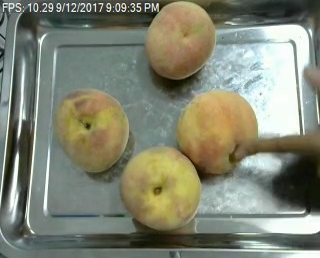Peach: (119, 144, 202, 231), (176, 89, 258, 175), (53, 89, 130, 173), (145, 0, 217, 79)
